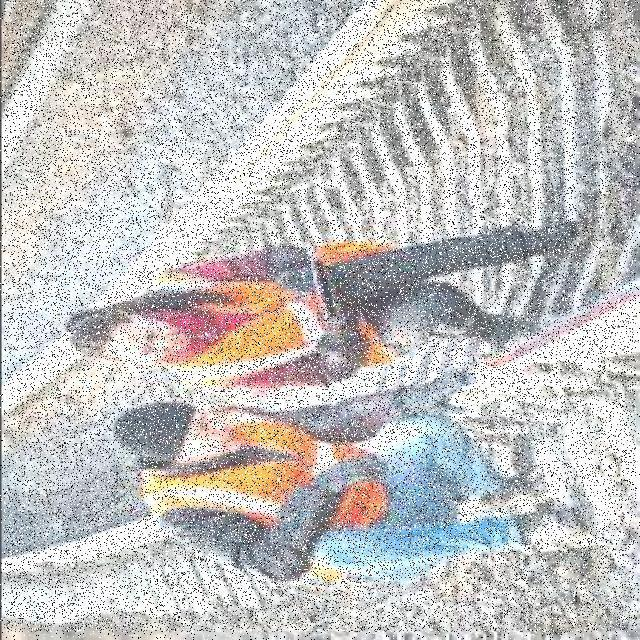danger: (101, 359, 598, 596), (55, 211, 600, 393)
rail: (5, 0, 636, 632)
